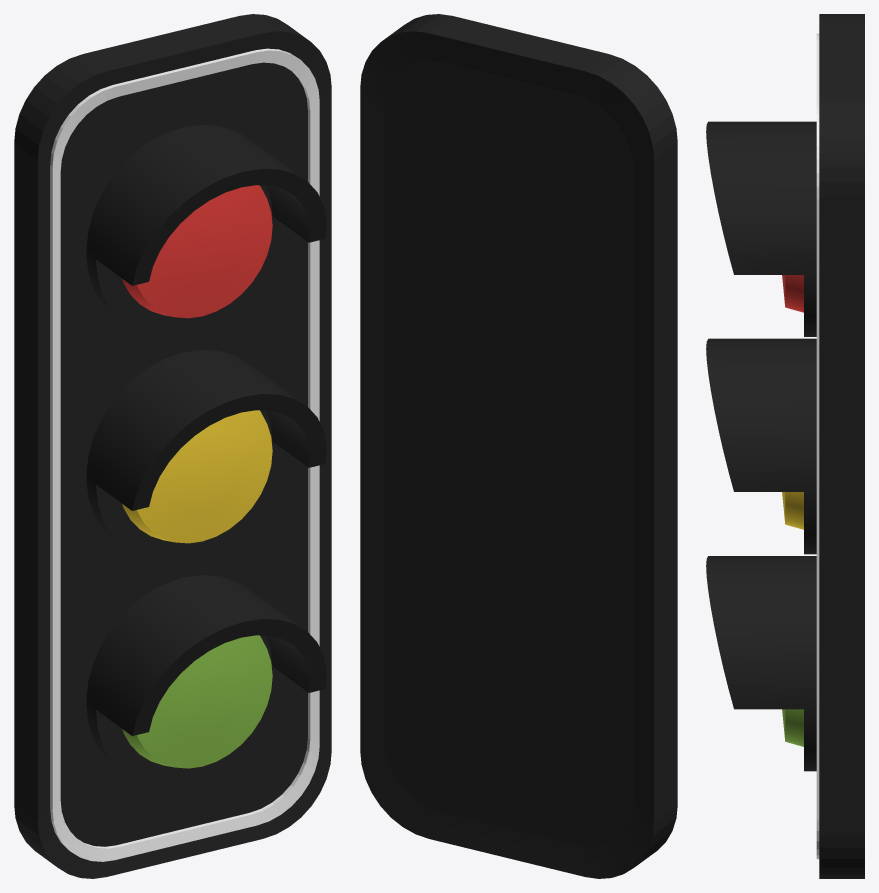
File: vertical_traffic_light.glb
3 renders of one model, left to right at view 1: azimuth 30°, elevation 25°; view 2: azimuth 150°, elevation 25°; view 3: azimuth 270°, elevation 25°, orthographic. The views are drawn at different scales.
Parts seen in each view (by area): view 1: Cube.759; view 2: Cube.759; view 3: Cube.759.
Boxes of the visible parts, x1=… form: Cube.759: x1=14, y1=14, x2=331, y2=878; Cube.759: x1=360, y1=14, x2=677, y2=878; Cube.759: x1=706, y1=14, x2=864, y2=878.
Bounding box in the file's own units: 0.902 × 2.36 × 0.4374.
1 material, 1 textured.
